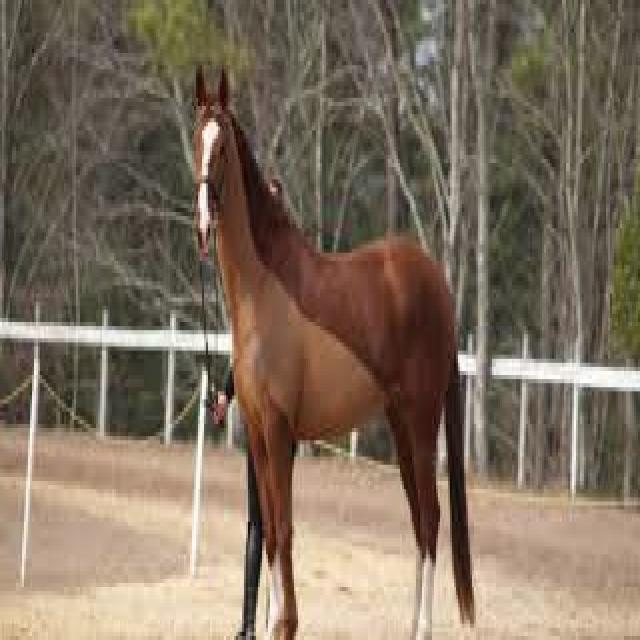horse: (196, 69, 474, 636)
